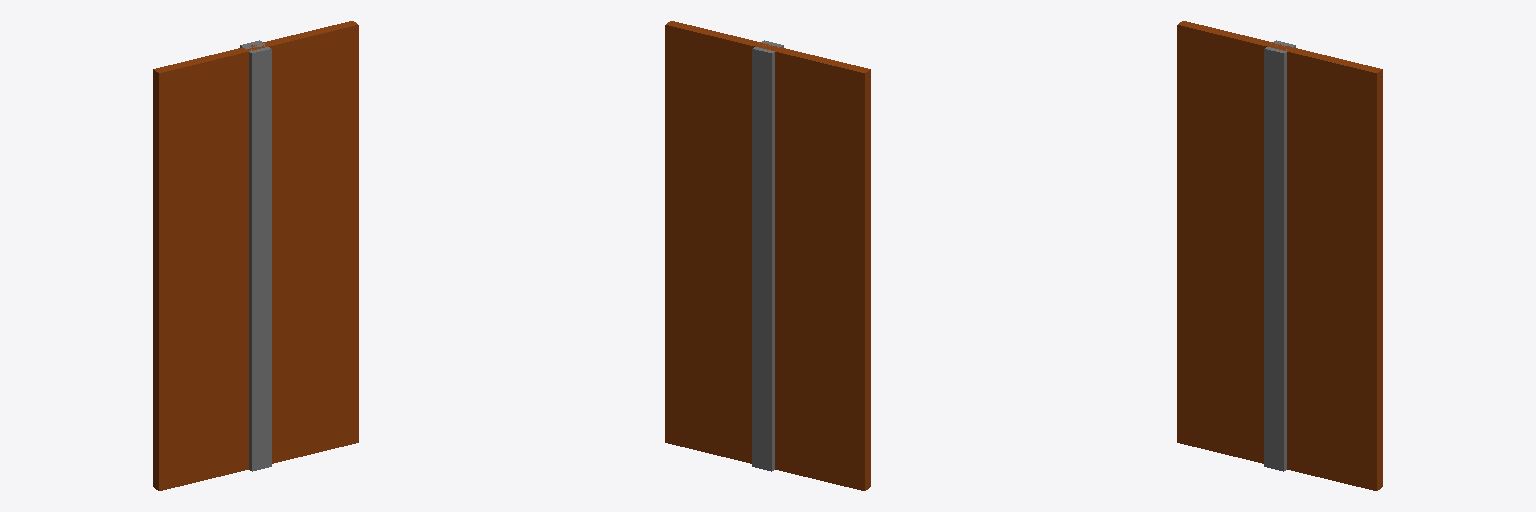
URDF robot description (door_slide):
<?xml version="1.0"?>
<robot name="door_slide">
  <link name="frame">
    <visual>
      <origin xyz="0 0 1.0"/>
      <geometry><box size="0.1 0.1 2.0"/></geometry>
      <material name="gray"><color rgba="0.5 0.5 0.5 1.0"/></material>
    </visual>
    <inertial>
      <mass value="0.0"/>
      <inertia ixx="0" ixy="0" ixz="0" iyy="0" iyz="0" izz="0"/>
    </inertial>
  </link>
  <joint name="slide" type="prismatic">
    <parent link="frame"/>
    <child link="panel"/>
    <origin xyz="0 0 0"/>
    <axis xyz="1 0 0"/>
    <limit lower="0" upper="1.2" effort="10" velocity="1.5"/>
  </joint>
  <link name="panel">
    <visual>
      <origin xyz="0 0 1.0"/>
      <geometry><box size="1.0 0.05 2.0"/></geometry>
      <material name="brown"><color rgba="0.6 0.3 0.1 1.0"/></material>
    </visual>
    <collision>
      <origin xyz="0 0 1.0"/>
      <geometry><box size="1.0 0.05 2.0"/></geometry>
    </collision>
    <inertial>
      <mass value="0.0"/>
      <inertia ixx="0" ixy="0" ixz="0" iyy="0" iyz="0" izz="0"/>
    </inertial>
  </link>
</robot>

--- Facts derived from the render (not from the file) ---
The picture shows the robot from 3 angles, left to right: view 1: azimuth 30°, elevation 25°; view 2: azimuth 150°, elevation 25°; view 3: azimuth 330°, elevation 25°; orthographic projection.
Robot: door_slide — 2 links, 1 joints (1 prismatic); root link frame; default pose: every joint at zero.
Links seen in each view (by area): view 1: panel, frame; view 2: panel, frame; view 3: panel, frame.
Link boxes in pixels (x1,y1,x2,y2): panel: (153, 21, 358, 490); frame: (240, 40, 271, 471); panel: (665, 21, 870, 490); frame: (752, 40, 783, 471); panel: (1177, 21, 1382, 490); frame: (1264, 40, 1295, 471).
Size in the robot's own frame: 1 by 0.1 by 2 metres.
Geometry: primitives only (box / cylinder / sphere), no mesh files.
